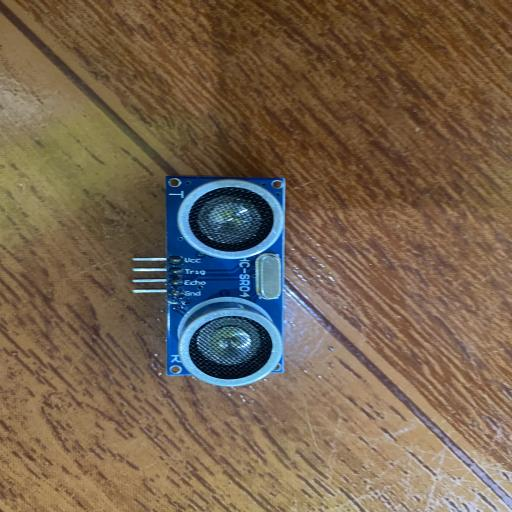Ultrasonic Sensor: (131, 173, 286, 387)
